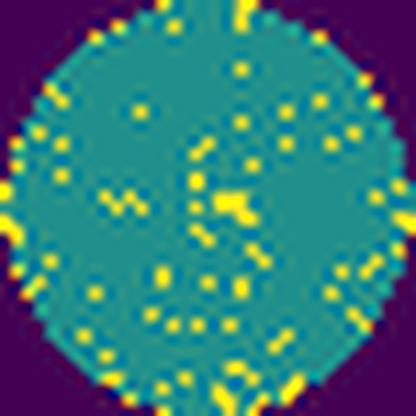Center: (208, 183, 267, 235)
